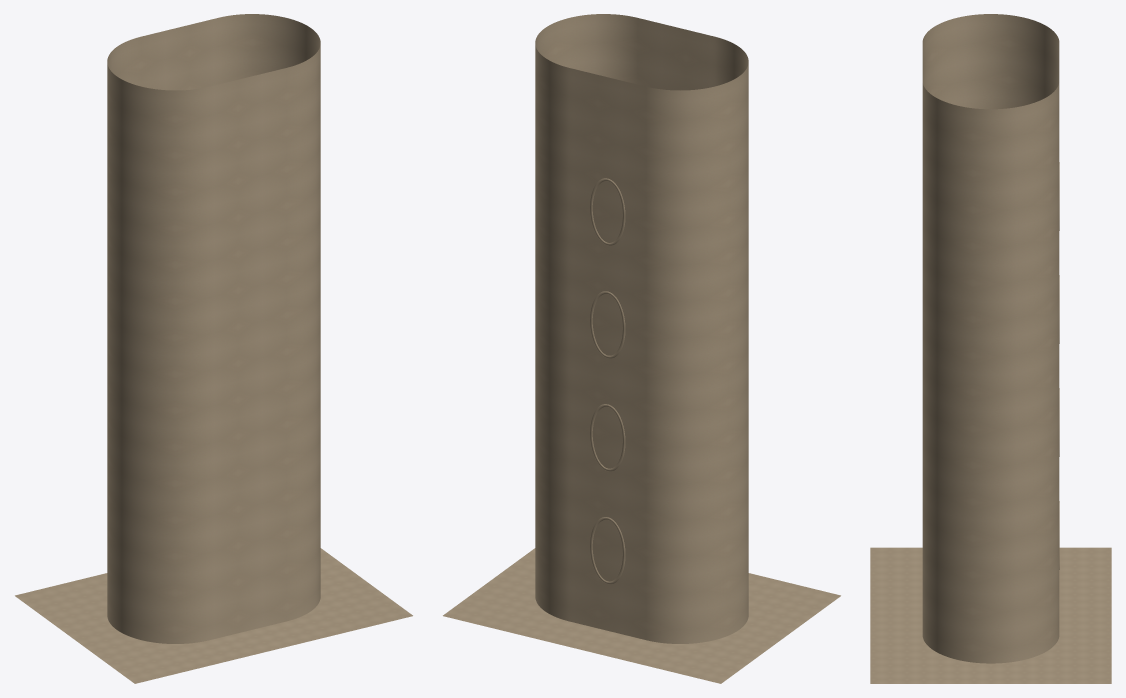
The model's file is staircase.glb.
The picture shows the model from 3 angles, left to right: view 1: azimuth 30°, elevation 25°; view 2: azimuth 150°, elevation 25°; view 3: azimuth 270°, elevation 25°; orthographic projection.
Visible parts, largest first — view 1: Ivory walls and supporting soffit; view 2: Ivory walls and supporting soffit; view 3: Ivory walls and supporting soffit.
Boxes of the visible parts, x1,y1,x2,y2 form: Ivory walls and supporting soffit: (15, 14, 412, 683); Ivory walls and supporting soffit: (443, 14, 840, 683); Ivory walls and supporting soffit: (870, 14, 1111, 683).
Size of the model in its own units: 8 by 15.18 by 6.
Materials: 10 (6 with a texture image).
